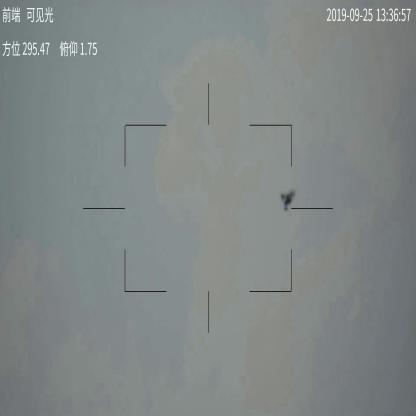uav: (281, 189, 298, 210)
